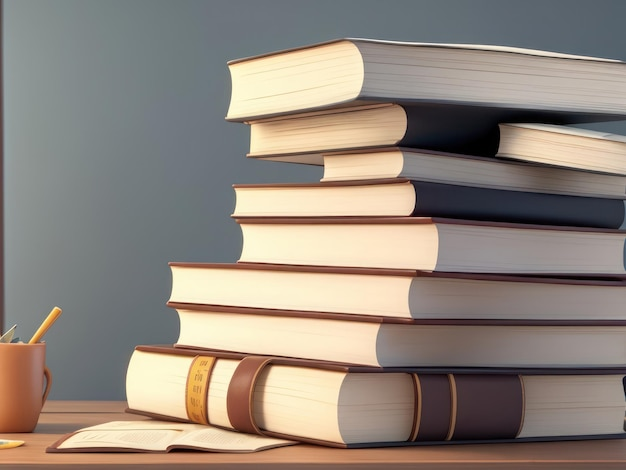not a gesture sign: (169, 263, 625, 319)
